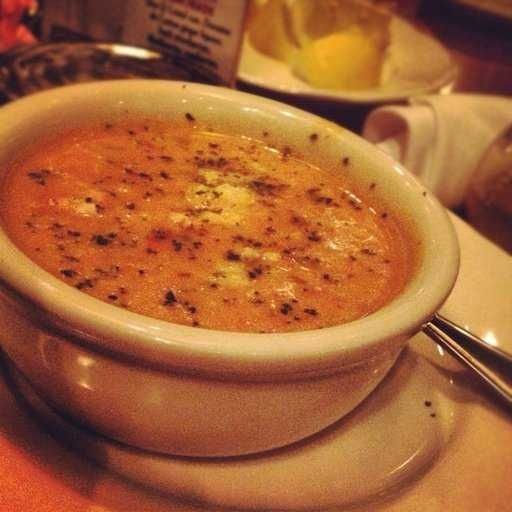soup: (1, 85, 402, 333)
